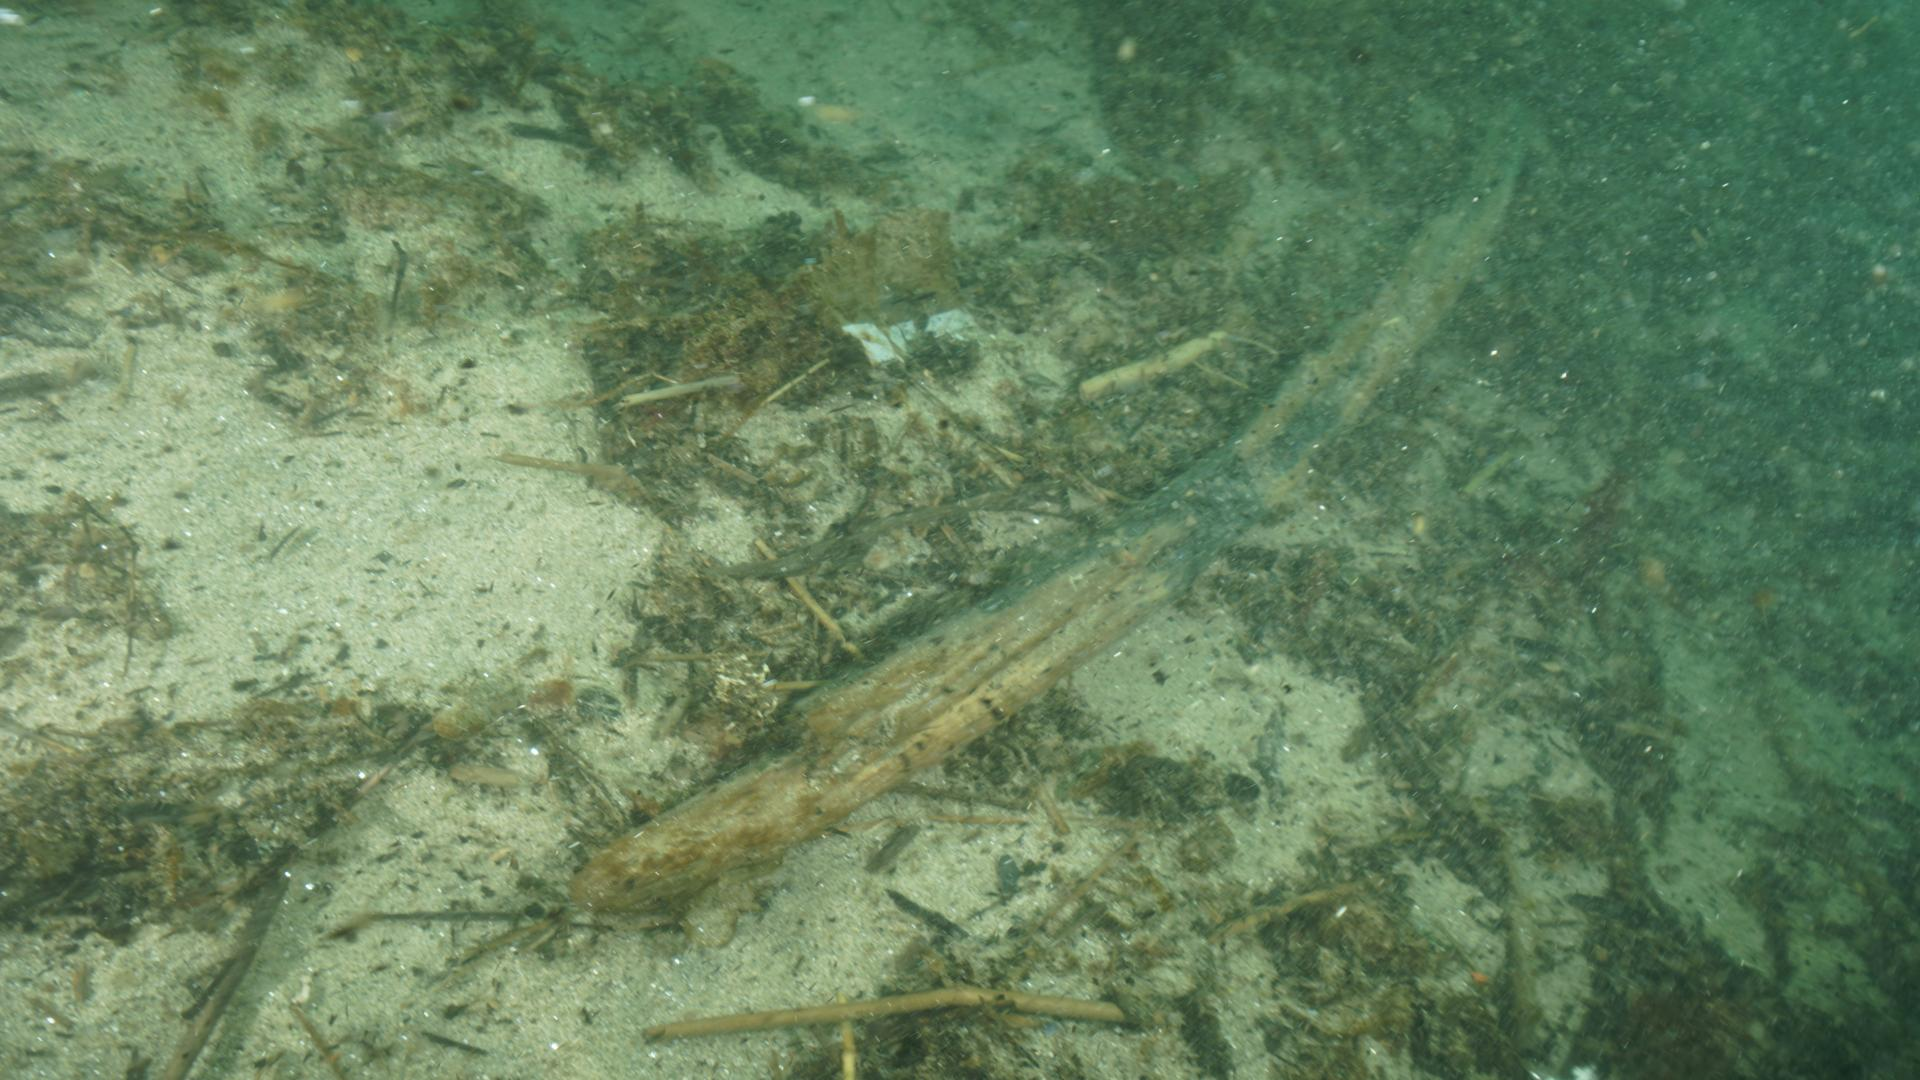wood: (568, 96, 1539, 913)
